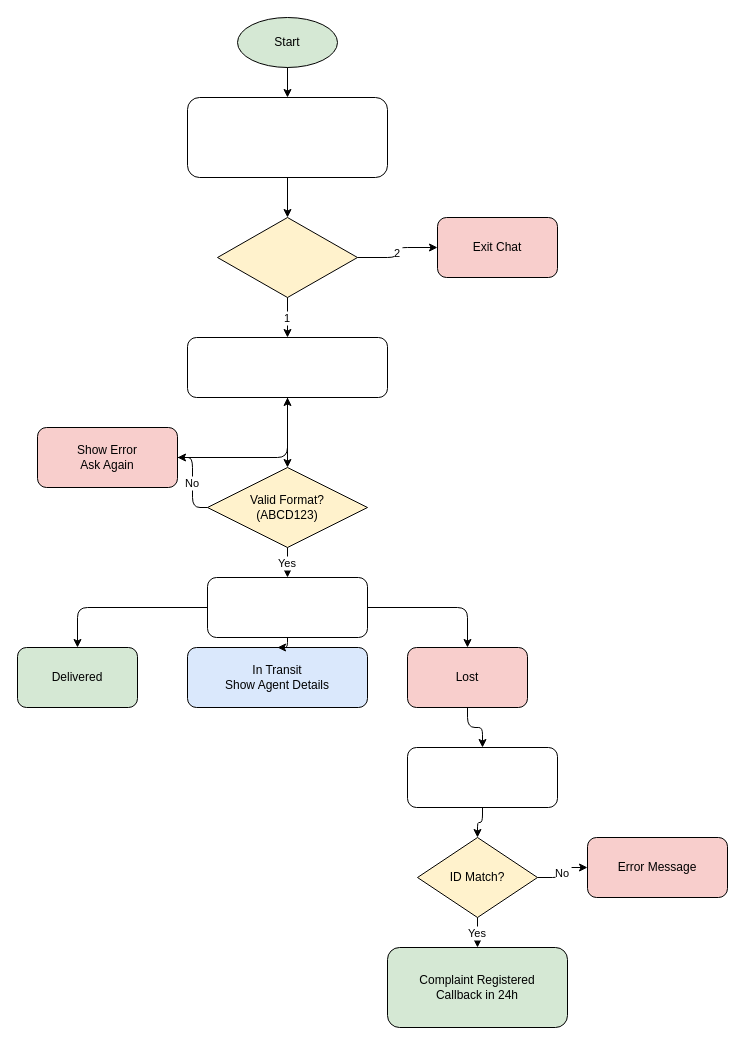
The diagram is 745 pixels wide and 1045 high, and some of its shapes have lost their labels. The centre of each missing label's shape, as x and y in pixels:
Check Status: point (287, 607)
Enter Tracking ID: point (287, 367)
Re-enter Tracking ID: point (482, 777)
Show Menu 1: Track Package 2: Exit: point (287, 137)
User Choice?: point (287, 257)
